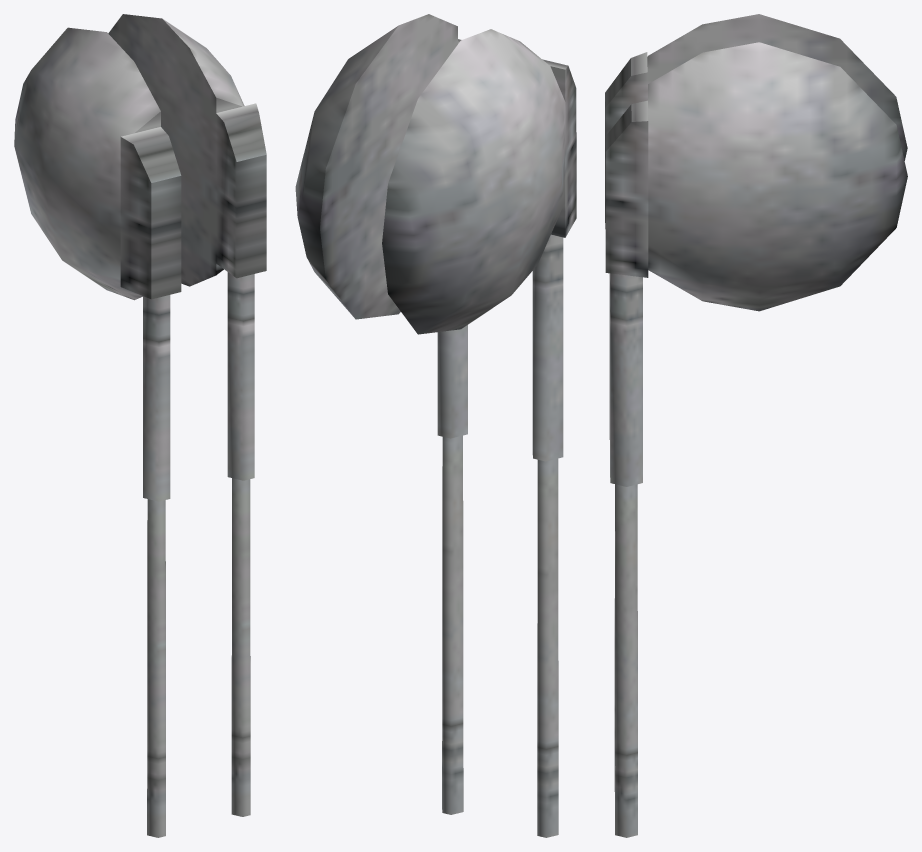
File: lambda_r_wing_guns_faction_l1.fbx
3 views of the same model, side by side, from view 1: azimuth 30°, elevation 25°; view 2: azimuth 150°, elevation 25°; view 3: azimuth 270°, elevation 25° (orthographic). The views are drawn at different scales.
Visible parts, largest first — view 1: mesh_node; view 2: mesh_node; view 3: mesh_node.
Boxes of the visible parts, x1,y1,x2,y2 form: mesh_node: (14,14,266,837); mesh_node: (295,14,576,837); mesh_node: (605,14,907,837).
Size of the model in its own units: 1.38 by 5.28 by 1.85.
